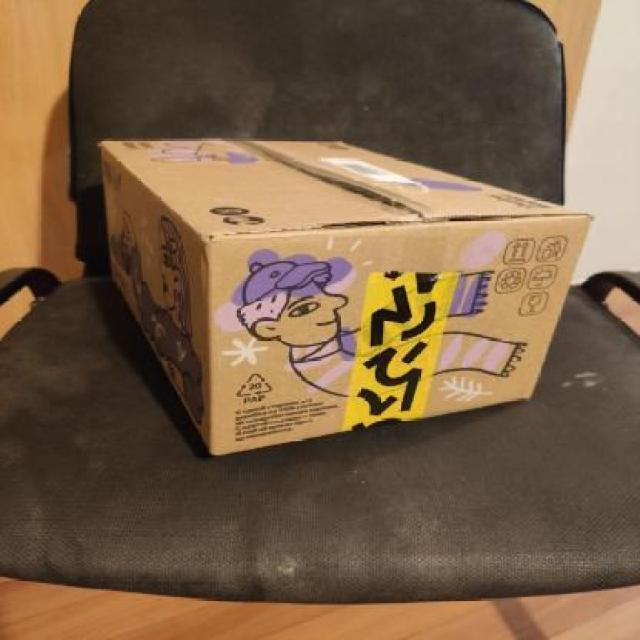box: (93, 120, 595, 482)
